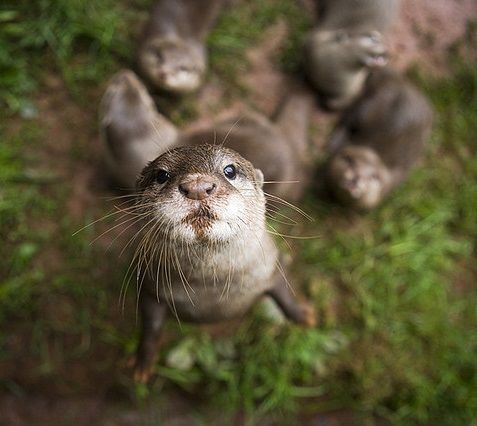otter: (115, 136, 325, 404)
